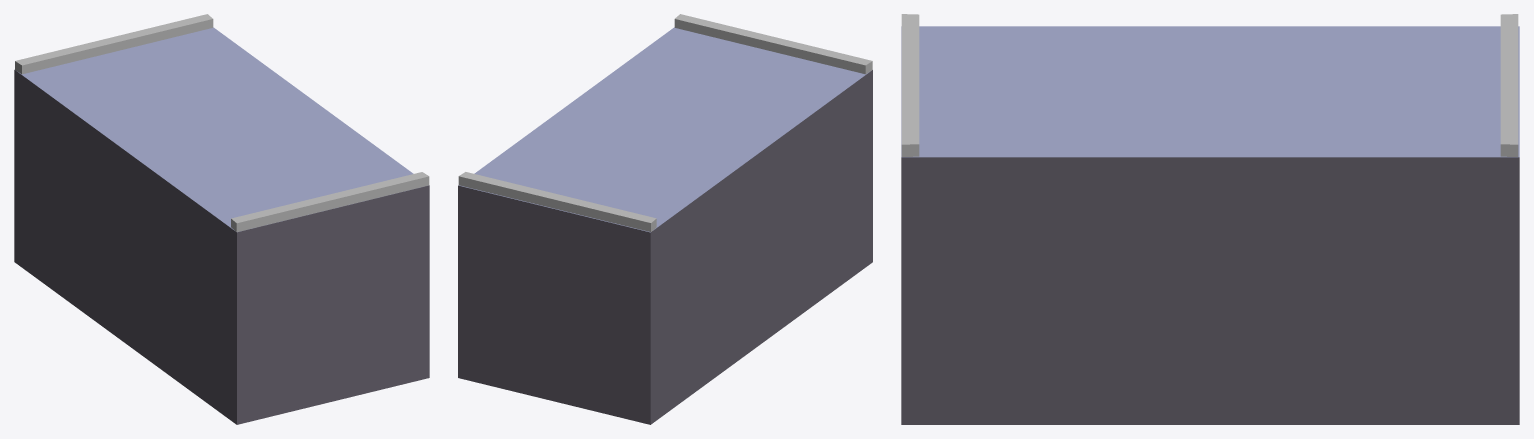
File: Res01_ChefTable.fbx
The picture shows the model from 3 angles, left to right: view 1: azimuth 30°, elevation 25°; view 2: azimuth 150°, elevation 25°; view 3: azimuth 270°, elevation 25°; orthographic projection. The views are drawn at different scales.
Visible parts, largest first — view 1: Res01_ChefTable; view 2: Res01_ChefTable; view 3: Res01_ChefTable.
Boxes of the visible parts, <box> form: Res01_ChefTable: <box>14,14,429,424</box>; Res01_ChefTable: <box>458,14,872,424</box>; Res01_ChefTable: <box>901,14,1519,424</box>.
Size of the model in its own units: 134 by 134 by 268.
